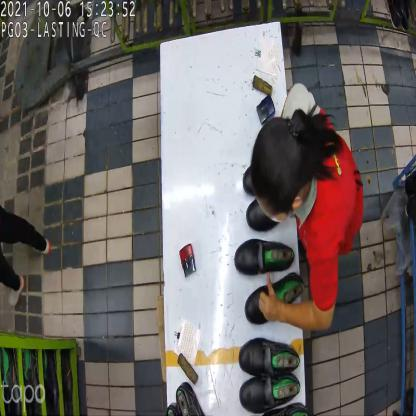shoes: (239, 159, 305, 239), (234, 336, 305, 409), (233, 241, 296, 310)
stamp: (254, 94, 274, 128), (179, 246, 198, 278)
